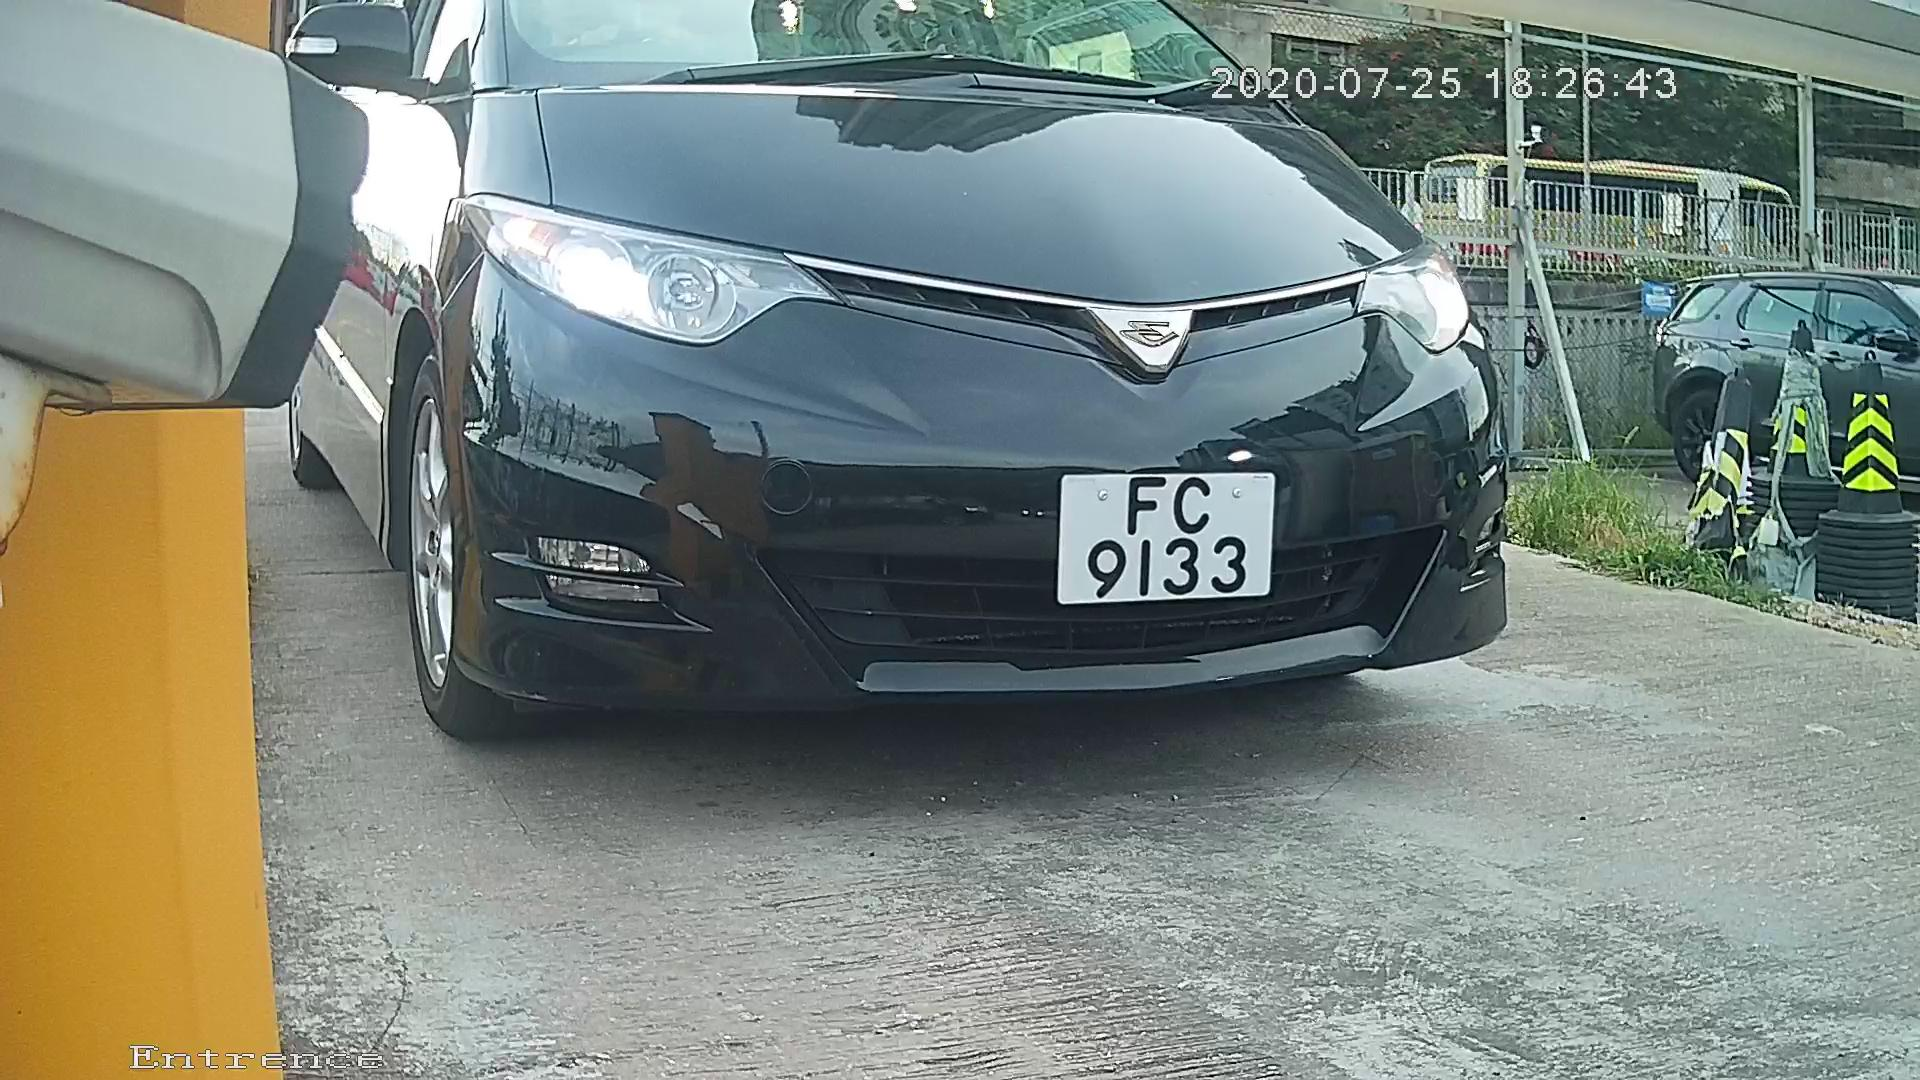License Plate: (1029, 463, 1303, 622)
